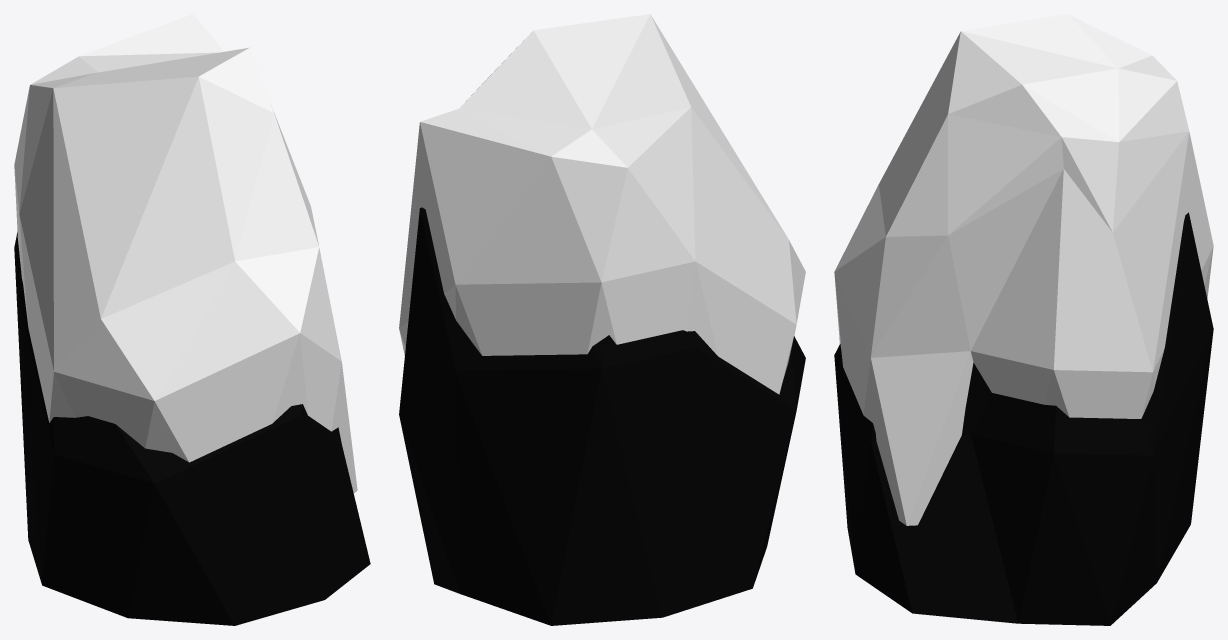
The model's file is Snow_rock_2.fbx.
3 views of the same model, side by side, from view 1: azimuth 30°, elevation 25°; view 2: azimuth 150°, elevation 25°; view 3: azimuth 270°, elevation 25° (orthographic). The views are drawn at different scales.
Visible parts, largest first — view 1: Snow_rock_2; view 2: Snow_rock_2; view 3: Snow_rock_2.
Boxes of the visible parts, bbox=[...] form: Snow_rock_2: bbox=[14, 14, 370, 625]; Snow_rock_2: bbox=[399, 14, 805, 625]; Snow_rock_2: bbox=[834, 14, 1213, 625].
Bounding box in the file's own units: 0.8065 × 1.31 × 0.8524.
1 material, 1 textured.
